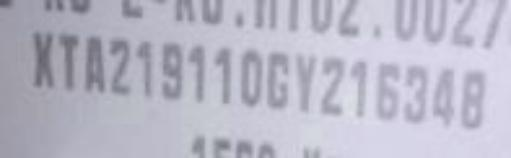letter: (290, 45, 318, 115), (261, 49, 289, 115), (373, 59, 401, 125), (459, 67, 487, 133), (318, 54, 346, 118), (239, 46, 266, 112), (430, 64, 458, 127), (106, 36, 134, 97), (83, 30, 108, 96), (28, 31, 56, 89), (402, 61, 427, 124), (57, 31, 82, 92), (161, 39, 186, 100), (347, 54, 370, 120), (212, 43, 235, 107), (134, 36, 157, 97), (187, 40, 207, 102)
